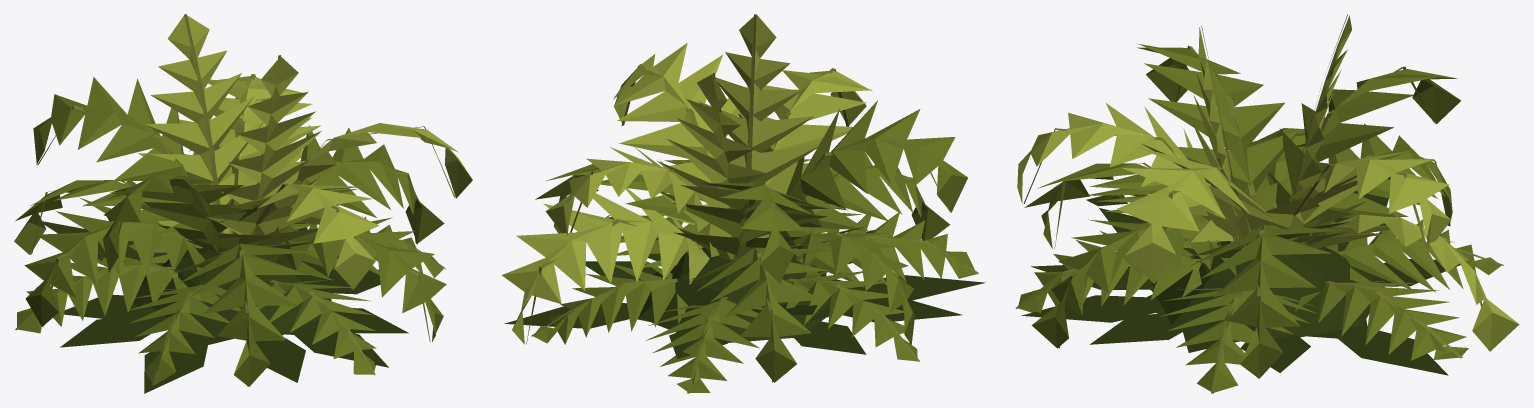
3 views of the same model, side by side, from view 1: azimuth 30°, elevation 25°; view 2: azimuth 150°, elevation 25°; view 3: azimuth 270°, elevation 25° (orthographic). The views are drawn at different scales.
Parts seen in each view (by area): view 1: fronds, fronds_young, crown, rachises; view 2: fronds, fronds_young, crown, rachises; view 3: fronds, fronds_young, crown, rachises.
Boxes of the visible parts, bbox=[...] form: fronds: bbox=[14, 77, 446, 386]; fronds_young: bbox=[138, 15, 472, 289]; crown: bbox=[38, 217, 408, 393]; rachises: bbox=[15, 14, 455, 386]; fronds: bbox=[533, 100, 976, 392]; fronds_young: bbox=[502, 14, 872, 344]; crown: bbox=[504, 225, 985, 358]; rachises: bbox=[526, 14, 978, 393]; fronds: bbox=[1018, 44, 1501, 392]; fronds_young: bbox=[1017, 15, 1519, 351]; crown: bbox=[1021, 177, 1471, 375]; rachises: bbox=[1015, 14, 1503, 393].
Size of the model in its own units: 0.85 by 0.53 by 0.87.
